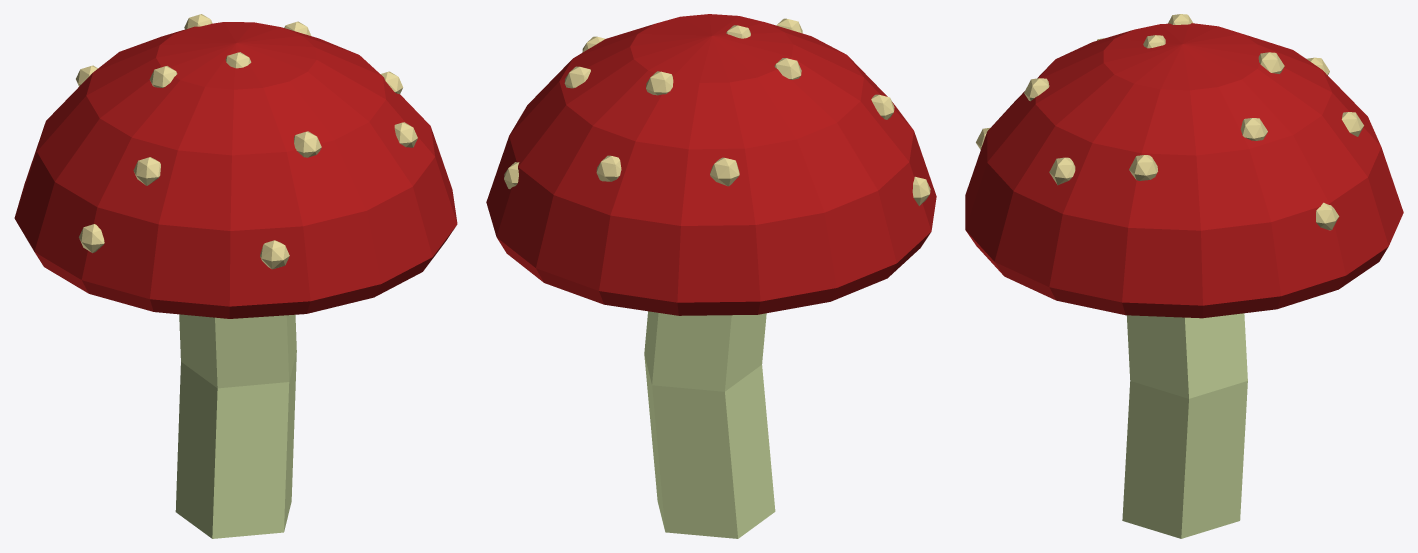
The model's file is Mushroom_b_02.fbx.
The picture shows the model from 3 angles, left to right: view 1: azimuth 30°, elevation 25°; view 2: azimuth 150°, elevation 25°; view 3: azimuth 270°, elevation 25°; orthographic projection. The views are drawn at different scales.
Visible parts, largest first — view 1: Mushroom_b_02_LOD0; view 2: Mushroom_b_02_LOD0; view 3: Mushroom_b_02_LOD0.
Boxes of the visible parts, <box> form: Mushroom_b_02_LOD0: <box>14,14,457,538</box>; Mushroom_b_02_LOD0: <box>486,14,936,538</box>; Mushroom_b_02_LOD0: <box>965,14,1403,538</box>.
Size of what is drawn, in the model's own units: 8.91 by 10.53 by 8.87.
